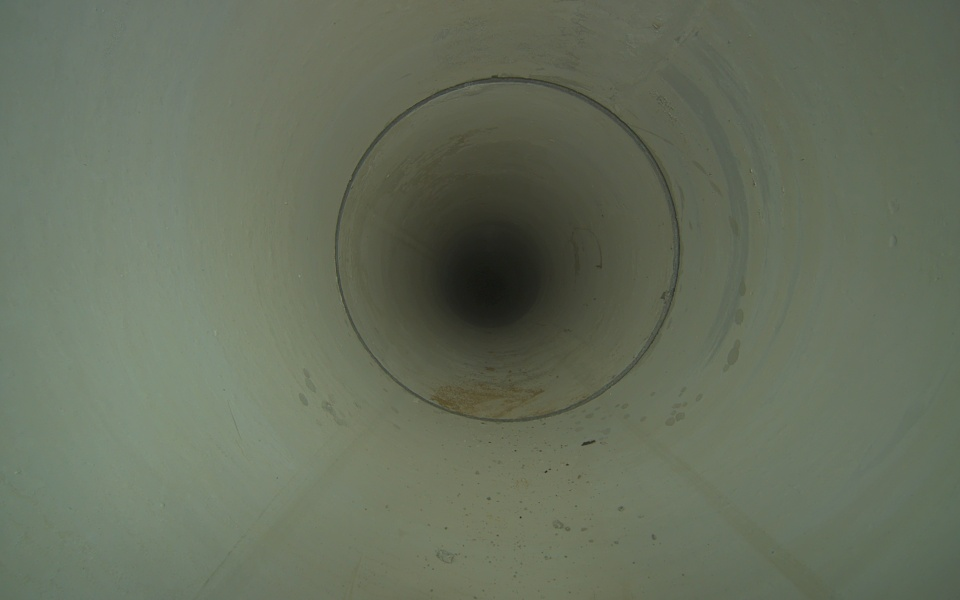circle1: (331, 74, 680, 424)
circle2: (444, 220, 547, 326)
